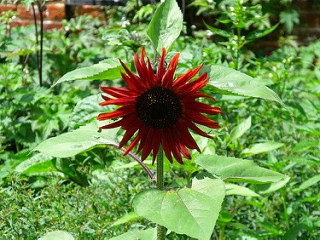flower: (94, 45, 224, 169)
